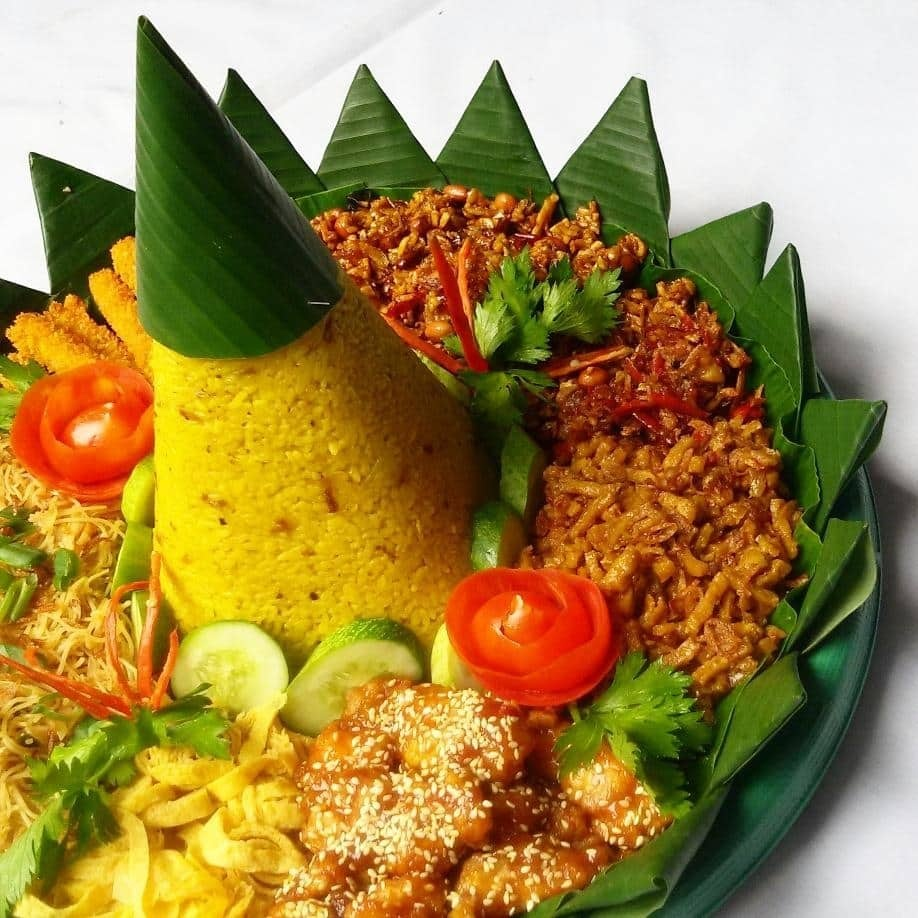tumpeng: (63, 24, 499, 627)
